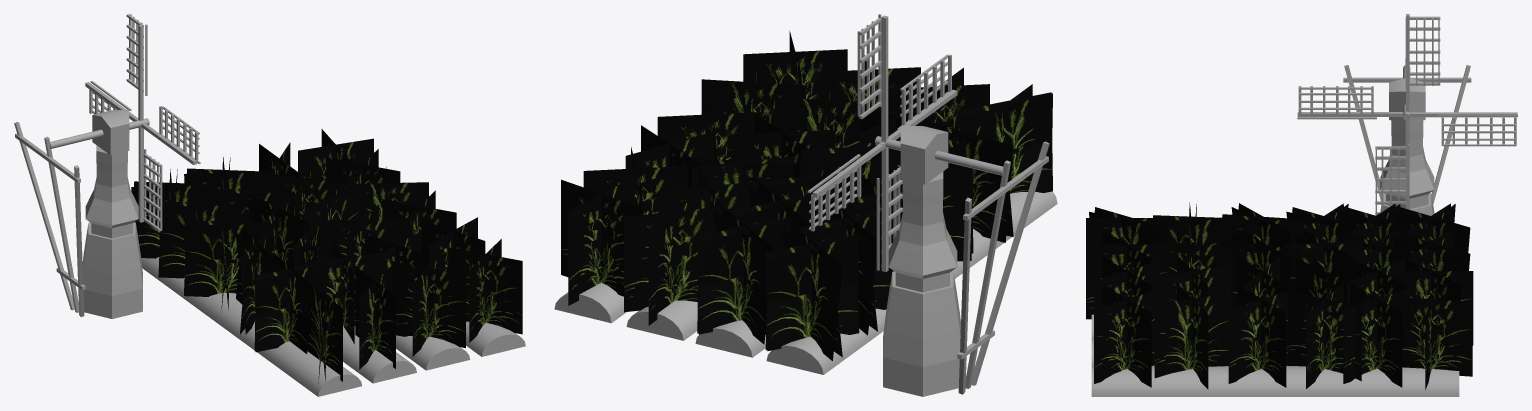
The model's file is Wheat Farm 3.0.fbx.
3 renders of one model, left to right at view 1: azimuth 30°, elevation 25°; view 2: azimuth 150°, elevation 25°; view 3: azimuth 270°, elevation 25°, orthographic. The views are drawn at different scales.
Visible parts, largest first — view 1: Windmill_Base, Windmill_Arm4, pCylinder8, pPlane61, pasted__Turning_Mechanism (×3), pPlane15, pPlane16, pPlane88, pPlane64, pPlane85, pPlane6, pPlane3 (+54 smaller); view 2: Windmill_Base, Windmill_Arm4, pCylinder8, pasted__Turning_Mechanism (×3), pPlane21, pPlane22, pPlane51, pPlane27, pPlane86, pPlane52, pPlane28, pPlane2 (+56 smaller); view 3: pCylinder5, Windmill_Arm4, pPlane83, pPlane75, Windmill_Base, pPlane76, pPlane85, pPlane92, pPlane84, pPlane94, pPlane89, pPlane79 (+61 smaller).
Boxes of the visible parts, x1,y1,x2,y2 form: Windmill_Base: (82,145,142,318); Windmill_Arm4: (85,14,200,231); pCylinder8: (141,257,361,396); pPlane61: (391,261,465,346); pasted__Turning_Mechanism (×3): (15,133,84,317); pPlane15: (184,220,267,296); pPlane16: (184,223,265,259); pPlane88: (448,247,522,334); pPlane64: (392,261,465,348); pPlane85: (448,250,522,331); pPlane6: (254,262,326,351); pPlane3: (303,280,342,381); Windmill_Base: (883,171,960,396); Windmill_Arm4: (807,14,957,271); pCylinder8: (766,191,1057,374); pasted__Turning_Mechanism (×3): (963,141,1049,388); pPlane21: (765,234,859,351); pPlane22: (765,235,859,350); pPlane51: (624,206,725,312); pPlane27: (697,218,790,333); pPlane86: (743,49,847,99); pPlane52: (624,210,715,309); pPlane28: (697,217,789,334); pPlane2: (961,93,1052,148); pCylinder5: (1091,366,1459,396); Windmill_Arm4: (1297,14,1517,215); pPlane83: (1154,292,1230,377); pPlane75: (1391,296,1472,376); Windmill_Base: (1380,120,1434,215); pPlane76: (1391,296,1472,375); pPlane85: (1094,288,1160,383); pPlane92: (1288,291,1361,381); pPlane84: (1154,292,1230,378); pPlane94: (1288,294,1361,380); pPlane89: (1343,288,1409,383); pPlane79: (1228,290,1294,382).
Bounding box in the file's own units: 22.65 × 17.45 × 24.64.
Materials: 4 (1 with a texture image).
